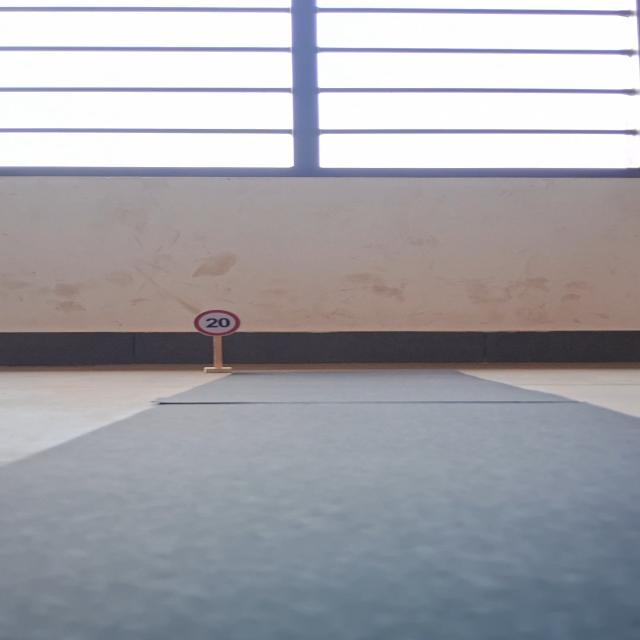Speed20: (192, 308, 244, 338)
